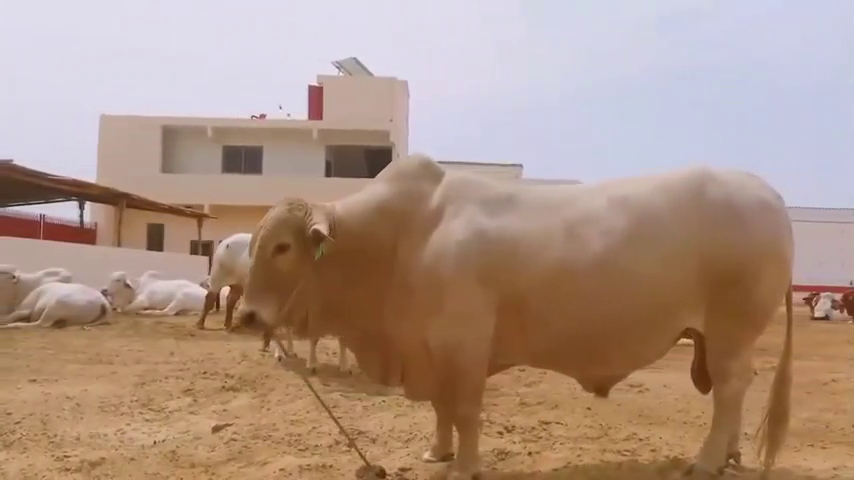bo: (235, 141, 812, 477), (190, 221, 264, 341), (102, 258, 210, 324), (23, 276, 109, 328), (2, 259, 75, 305)
